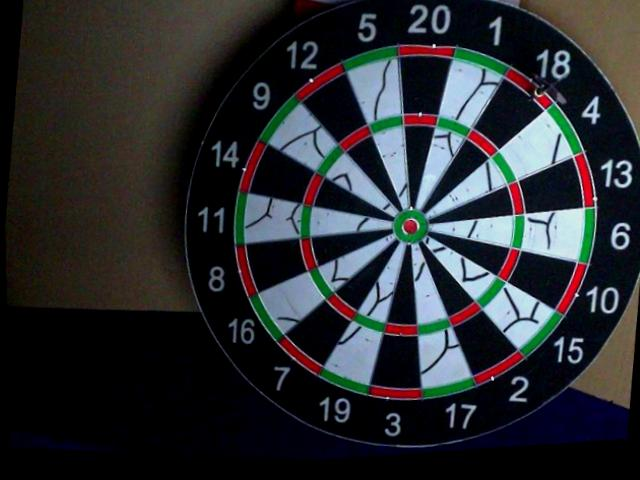double_18: (503, 71, 554, 111)
